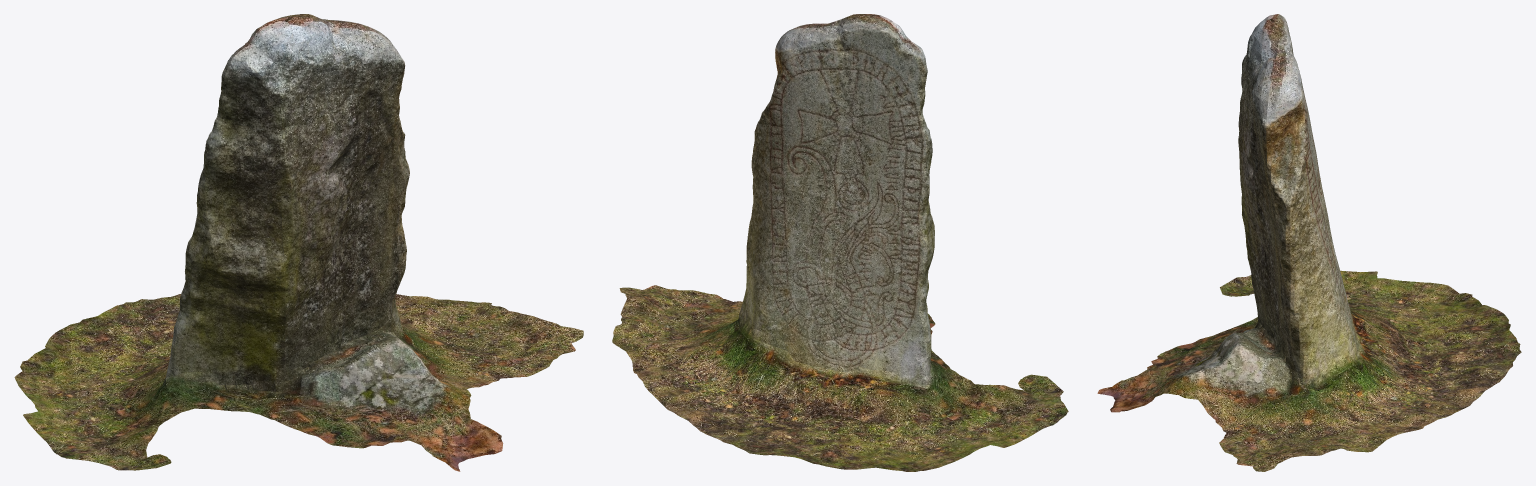
Rendered from hanstastenen.gltf.
3 renders of one model, left to right at view 1: azimuth 30°, elevation 25°; view 2: azimuth 150°, elevation 25°; view 3: azimuth 270°, elevation 25°, orthographic. The views are drawn at different scales.
Visible parts, largest first — view 1: hanstastenen1024; view 2: hanstastenen1024; view 3: hanstastenen1024.
Part boxes in pixels (x1=…): hanstastenen1024: x1=14, y1=14, x2=583, y2=471; hanstastenen1024: x1=612, y1=14, x2=1068, y2=471; hanstastenen1024: x1=1097, y1=14, x2=1521, y2=471.
Size of the model in its own units: 9.77 by 7.25 by 8.1.
Materials: 1 (1 with a texture image).
